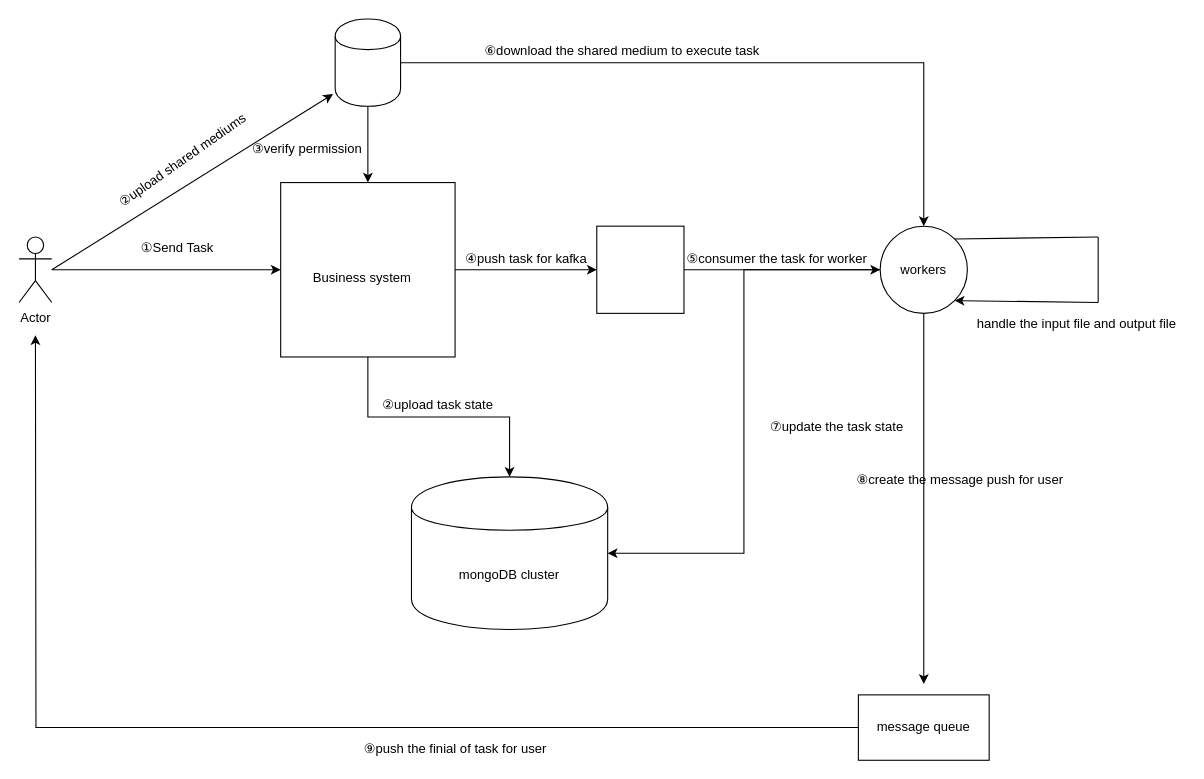
The diagram is 1204 pixels wide and 779 high, and some of its shapes have lost their labels. Here are the shapes that lost their labels. From the top down, the centre of each, then its label:
the point at 367,62: fastDFS
the point at 640,269: kafka
